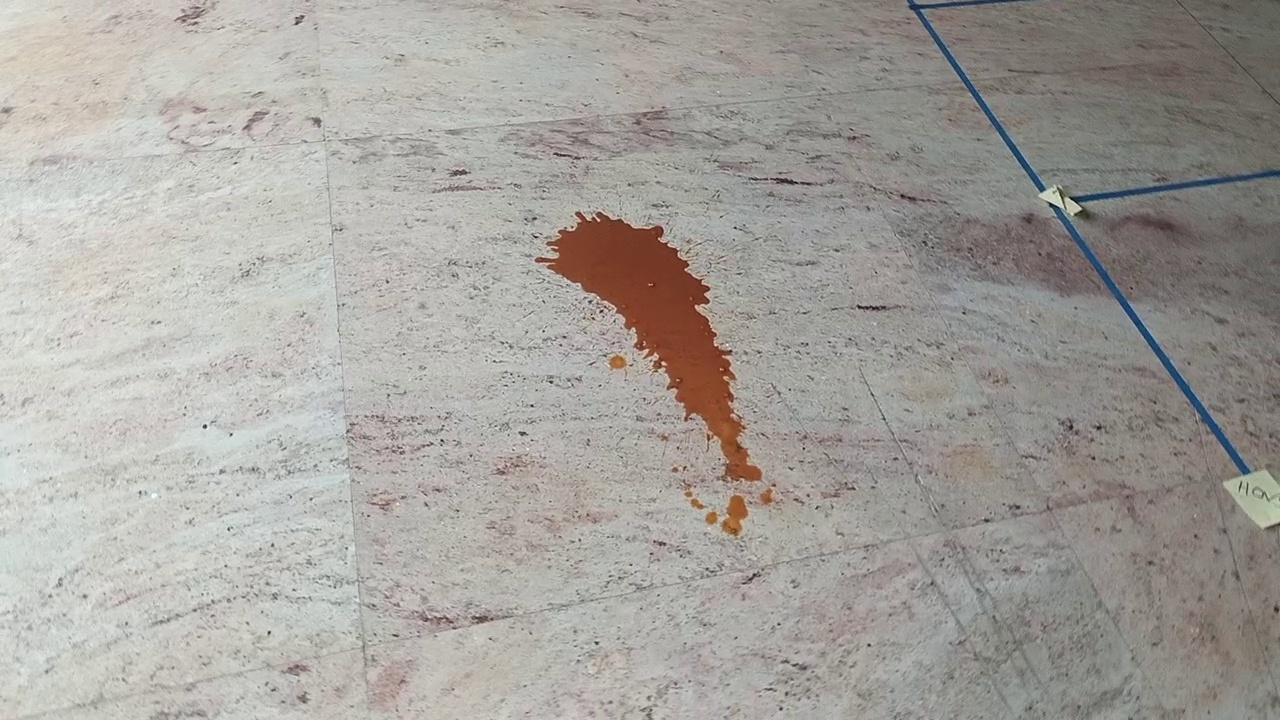dirty_floor: (536, 209, 775, 537)
